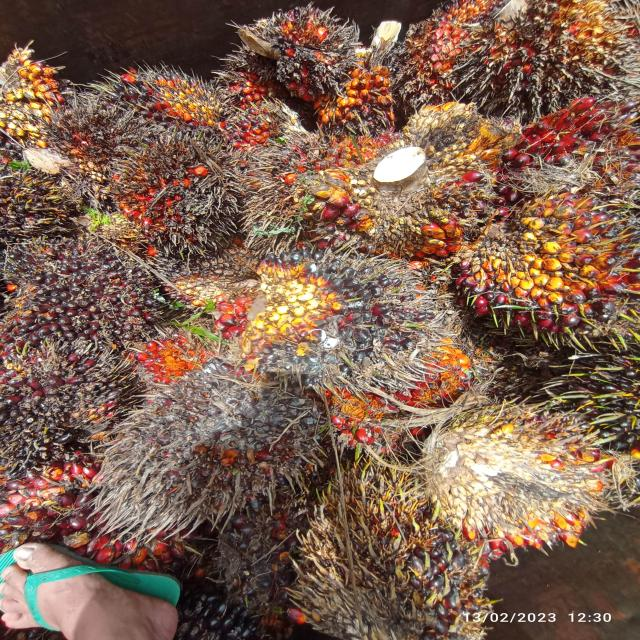fraksi 00: (294, 443, 496, 640)
fraksi 1: (241, 232, 432, 411), (15, 246, 170, 342), (1, 333, 120, 457)
fraksi 3: (82, 360, 334, 538), (462, 167, 613, 359), (504, 91, 630, 202)
fraksi 4: (428, 0, 629, 104), (108, 138, 262, 254), (246, 6, 350, 99), (320, 52, 410, 147), (42, 98, 132, 168)
